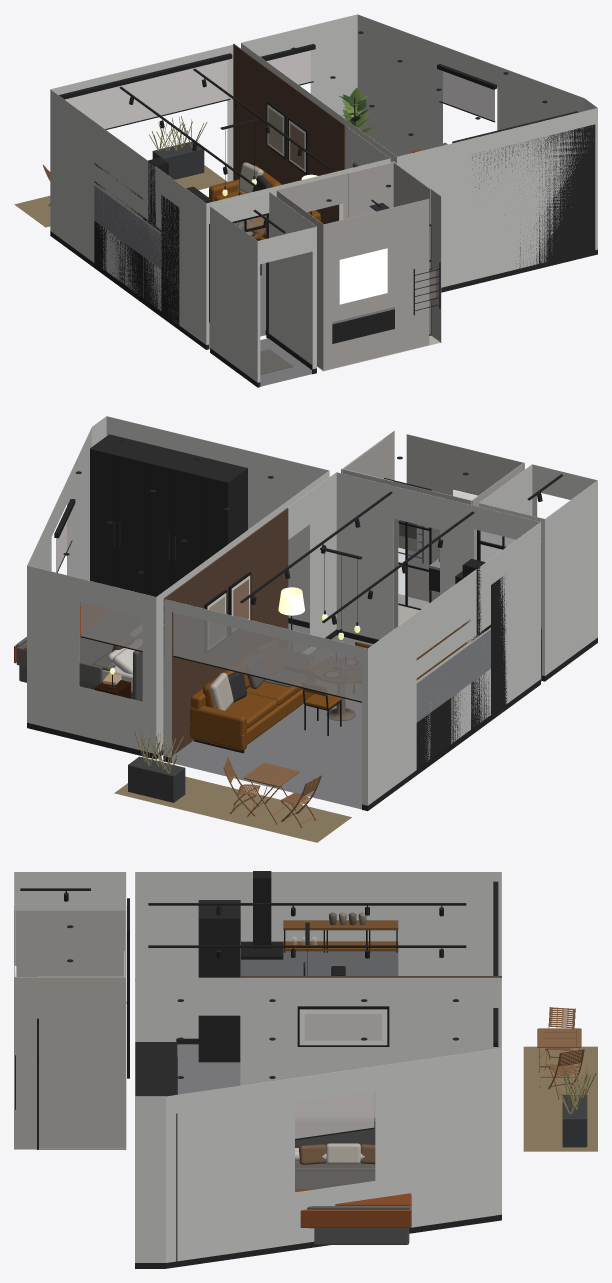
The model's file is unit-1.B-urban.glb.
The picture shows the model from 3 angles, top to bottom: view 1: azimuth 30°, elevation 25°; view 2: azimuth 150°, elevation 25°; view 3: azimuth 270°, elevation 25°; orthographic projection. The views are drawn at different scales.
Parts seen in each view (by area): view 1: int-wall, int-bathWall, int-joineryTall, int-feature, int-sheer, int-matteBlack, int-showerWall, int-splash, int-joinery, int-ledStrip, int-skirting, int-outdoor (+11 smaller); view 2: int-wall, int-joineryTall, int-sheer, int-floor, int-feature, int-bathWall, int-deck, int-sofa, int-splash, int-joinery, int-matteBlack, int-glass (+15 smaller); view 3: int-wall, int-bathWall, int-joineryTall, int-deck, int-matteBlack, int-splash, int-sheer, int-bedThrow, int-headboard, int-duvet, int-floor, int-inst-track|matteBlack (+14 smaller).
Part boxes in pixels (bbox=[...]): int-wall: bbox=[50, 14, 597, 382]; int-bathWall: bbox=[276, 161, 441, 370]; int-joineryTall: bbox=[161, 111, 595, 343]; int-feature: bbox=[233, 44, 345, 224]; int-sheer: bbox=[65, 50, 494, 128]; int-matteBlack: bbox=[59, 44, 496, 316]; int-showerWall: bbox=[348, 162, 430, 334]; int-splash: bbox=[94, 185, 161, 267]; int-joinery: bbox=[94, 221, 160, 310]; int-ledStrip: bbox=[339, 248, 387, 304]; int-skirting: bbox=[50, 231, 597, 387]; int-outdoor: bbox=[152, 141, 204, 179]; int-wall: bbox=[27, 416, 597, 805]; int-joineryTall: bbox=[90, 434, 507, 720]; int-sheer: bbox=[56, 511, 361, 701]; int-floor: bbox=[172, 623, 373, 809]; int-feature: bbox=[164, 508, 288, 759]; int-bathWall: bbox=[341, 430, 524, 629]; int-deck: bbox=[114, 776, 351, 842]; int-sofa: bbox=[190, 670, 314, 750]; int-splash: bbox=[416, 629, 490, 720]; int-joinery: bbox=[416, 673, 489, 768]; int-matteBlack: bbox=[54, 492, 542, 774]; int-glass: bbox=[398, 520, 515, 608]; int-wall: bbox=[14, 872, 501, 1262]; int-bathWall: bbox=[14, 910, 126, 1149]; int-joineryTall: bbox=[135, 900, 240, 1267]; int-deck: bbox=[523, 1046, 597, 1151]; int-matteBlack: bbox=[64, 871, 498, 1140]; int-splash: bbox=[241, 951, 398, 975]; int-sheer: bbox=[295, 1047, 496, 1138]; int-bedThrow: bbox=[295, 1189, 411, 1227]; int-headboard: bbox=[295, 1117, 409, 1244]; int-duvet: bbox=[295, 1161, 411, 1228]; int-floor: bbox=[177, 1044, 240, 1094]; int-inst-track|matteBlack: bbox=[20, 888, 466, 947].
Bounding box in the file's own units: 7.52 × 2.7 × 8.26.
